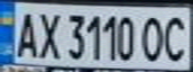0: (115, 11, 139, 62)
1: (84, 11, 103, 61), (100, 11, 118, 61)
3: (63, 9, 84, 61)
A: (9, 7, 42, 60)
C: (160, 11, 193, 63)
O: (139, 11, 169, 63)
X: (33, 8, 63, 60)
